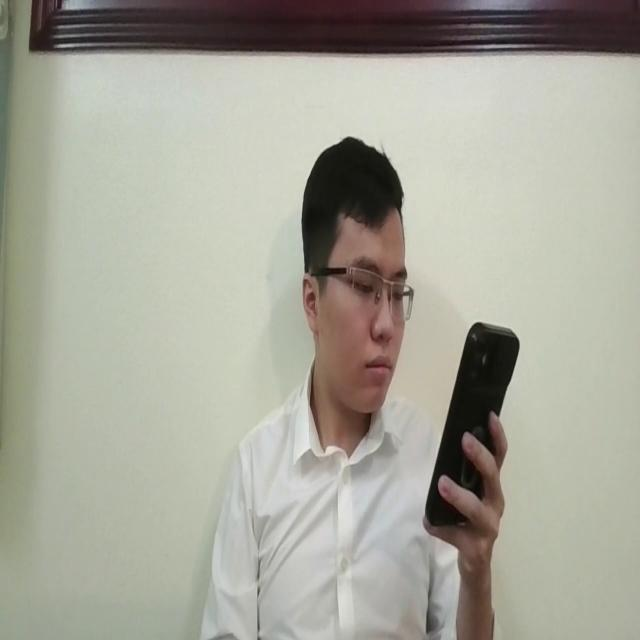phone: (421, 310, 522, 531)
student: (201, 130, 518, 640)
